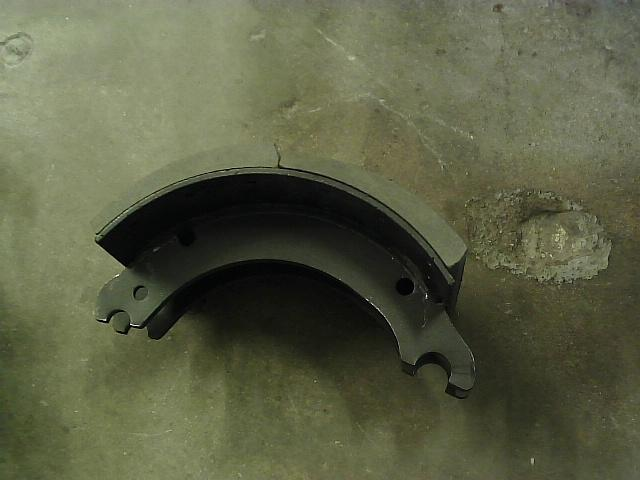brake-shoes: (90, 141, 480, 400)
